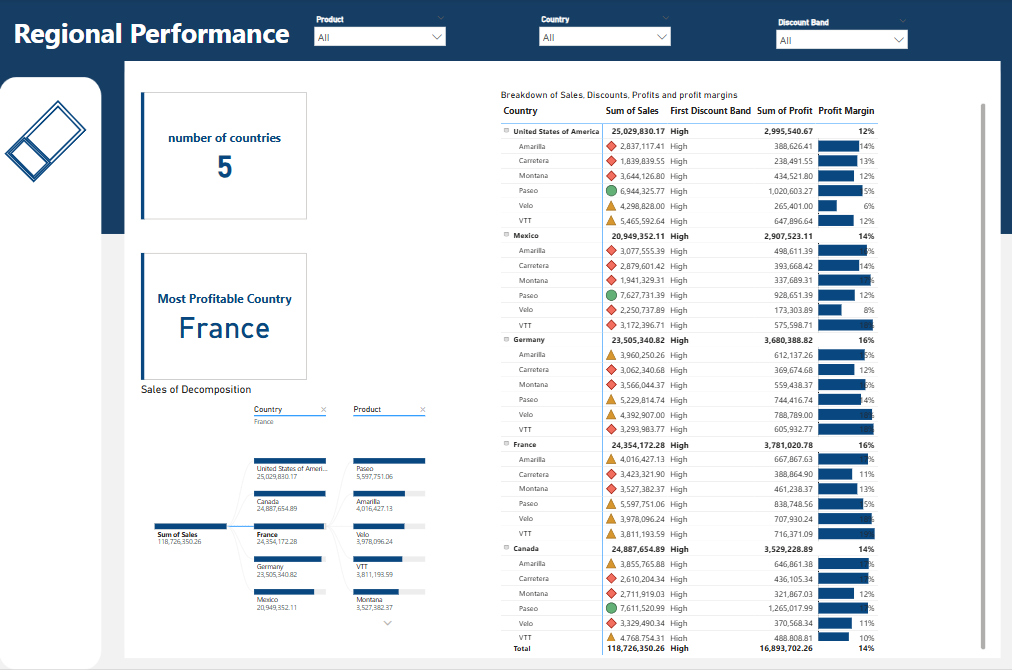

Layout of this report page (visuals, bound fields, positions):
{"tool":"powerbi","page":{"name":"regional performance","canvas":[1840,1220],"ordinal":1},"visuals":[{"type":"textbox","box":[19,24.4,541.4,140.8],"z":0},{"type":"shape","box":[225.5,114.1,1586.5,1081.2],"z":1000},{"type":"slicer","fields":{"Values":["financials.Product"]},"box":[560.4,24.4,257.2,65],"z":2000},{"type":"slicer","fields":{"Values":["financials.Country"]},"box":[966.5,24.4,257.2,65],"z":3000},{"type":"slicer","fields":{"Values":["financials.Discount Band"]},"box":[1396.9,29.8,257.2,65],"z":4000},{"type":"cardVisual","fields":{"Data":["Count(financials.Country)"]},"box":[249.1,165.1,311.3,240.9],"z":5000},{"type":"cardVisual","fields":{"Data":["Min(financials.Country)"]},"box":[249.1,457.5,311.3,240.9],"z":6000},{"type":"decompositionTreeVisual","title":"Sales of Decomposition","fields":{"Analyze":["Sum(financials. Sales)"],"ExplainBy":["financials.Country","financials.Product"]},"box":[249.9,698.2,671,472.7],"z":7000},{"type":"pivotTable","title":"Breakdown of Sales, Discounts, Profits and profit margins","fields":{"Rows":["financials.Country","financials.Product"],"Values":["Sum(financials. Sales)","Min(financials.Discount Band)","Sum(financials.Profit)","metrics.Profit Margin"]},"box":[901.9,165.7,888.3,1029.6],"z":9000},{"type":"actionButton","box":[0,165.7,165.7,190.2],"z":9001}]}

Visuals, with their boxes in screenshot pixels (x1, y1, x2, y2), scaled from the page's 1840x1220 canvas onto the 1012x670 screenshot:
textbox: left=10, top=13, right=308, bottom=91
shape: left=124, top=63, right=997, bottom=656
slicer - financials.Product: left=308, top=13, right=450, bottom=49
slicer - financials.Country: left=532, top=13, right=673, bottom=49
slicer - financials.Discount Band: left=768, top=16, right=910, bottom=52
cardVisual - Count(financials.Country): left=137, top=91, right=308, bottom=223
cardVisual - Min(financials.Country): left=137, top=251, right=308, bottom=384
"Sales of Decomposition" decompositionTreeVisual: left=137, top=383, right=506, bottom=643
"Breakdown of Sales, Discounts, Profits and profit margins" pivotTable: left=496, top=91, right=985, bottom=656
actionButton: left=0, top=91, right=91, bottom=195
